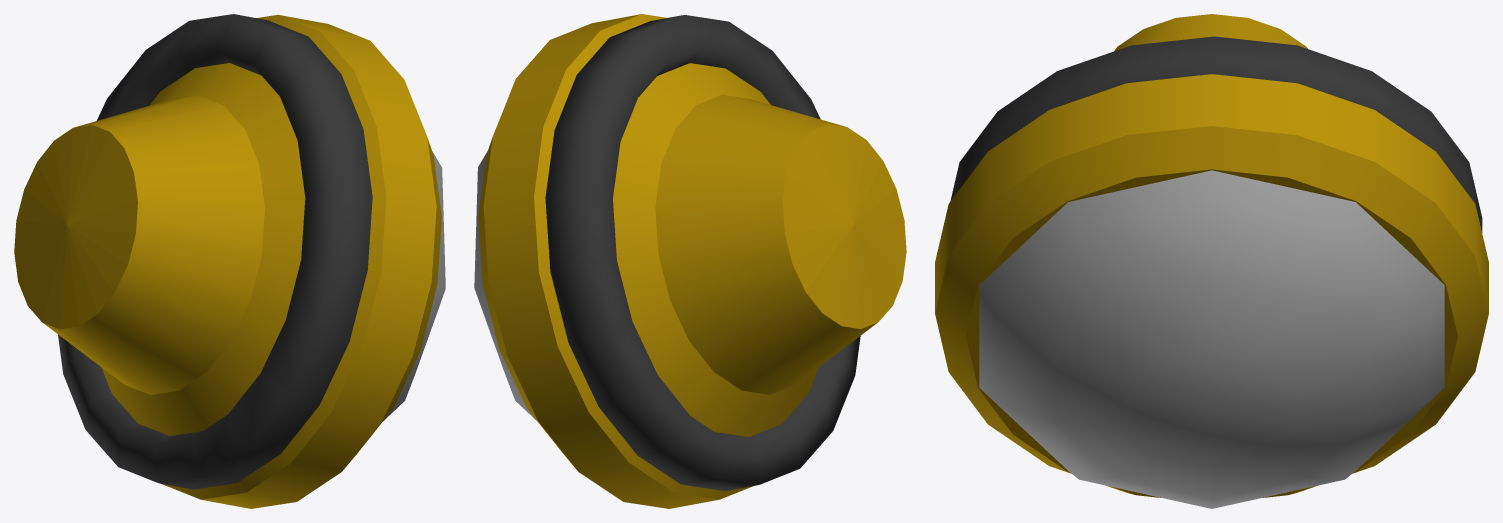
The model's file is SubmarineLight.fbx.
The picture shows the model from 3 angles, left to right: view 1: azimuth 30°, elevation 25°; view 2: azimuth 150°, elevation 25°; view 3: azimuth 270°, elevation 25°; orthographic projection. The views are drawn at different scales.
Visible parts, largest first — view 1: Light; view 2: Light; view 3: Light.
Boxes of the visible parts, x1,y1,x2,y2 form: Light: [14, 14, 445, 508]; Light: [474, 14, 906, 508]; Light: [935, 14, 1488, 508].
Size of the model in its own units: 0.3184 by 0.3689 by 0.369.
